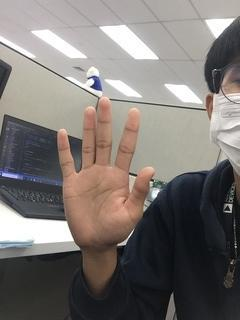hand: (58, 95, 154, 248)
